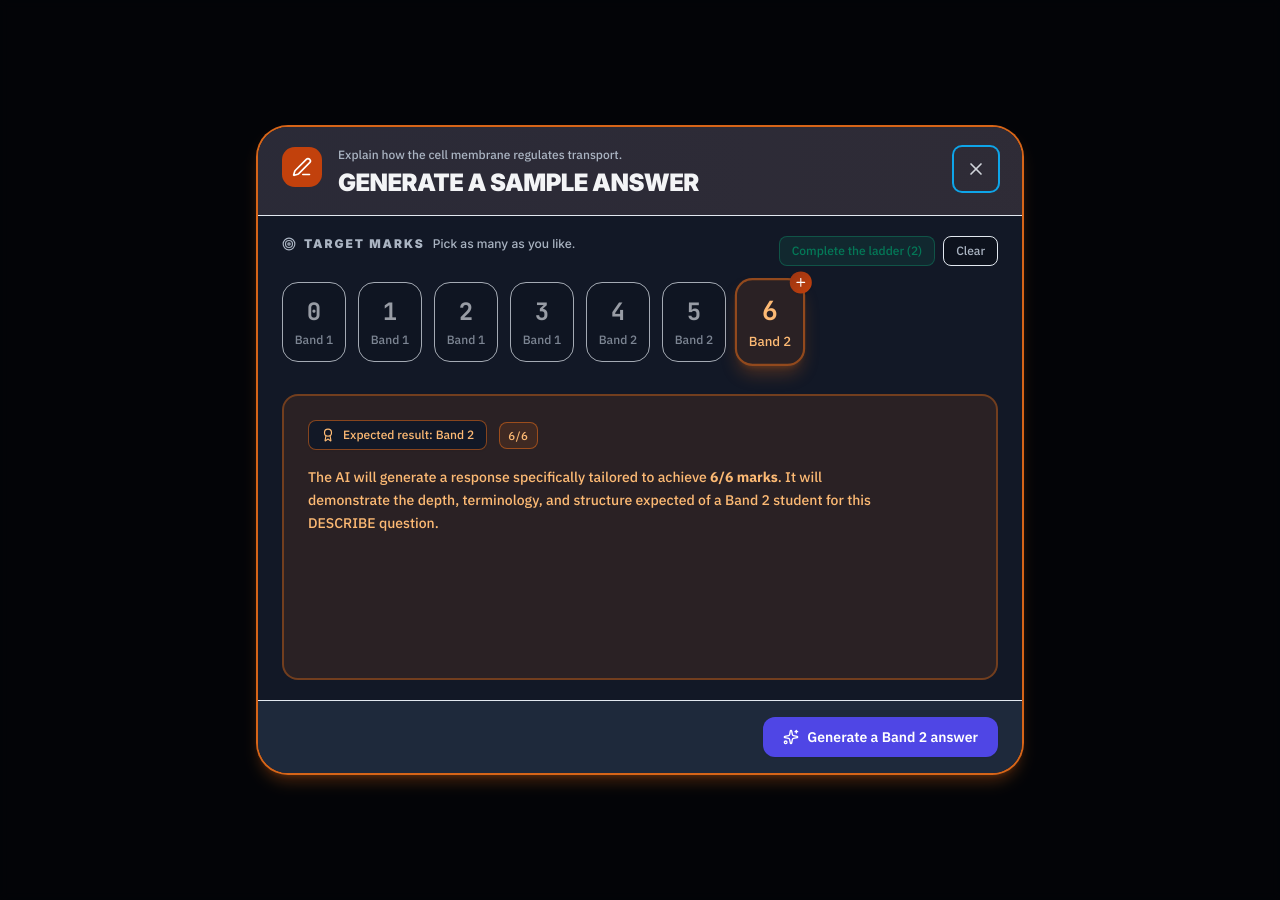
the generator copy › names the verb without quotes, in the header and in the explanation
Step 1. Click the button with aria-label "2 of 6 marks" → (466, 322), box [434, 282, 498, 362]
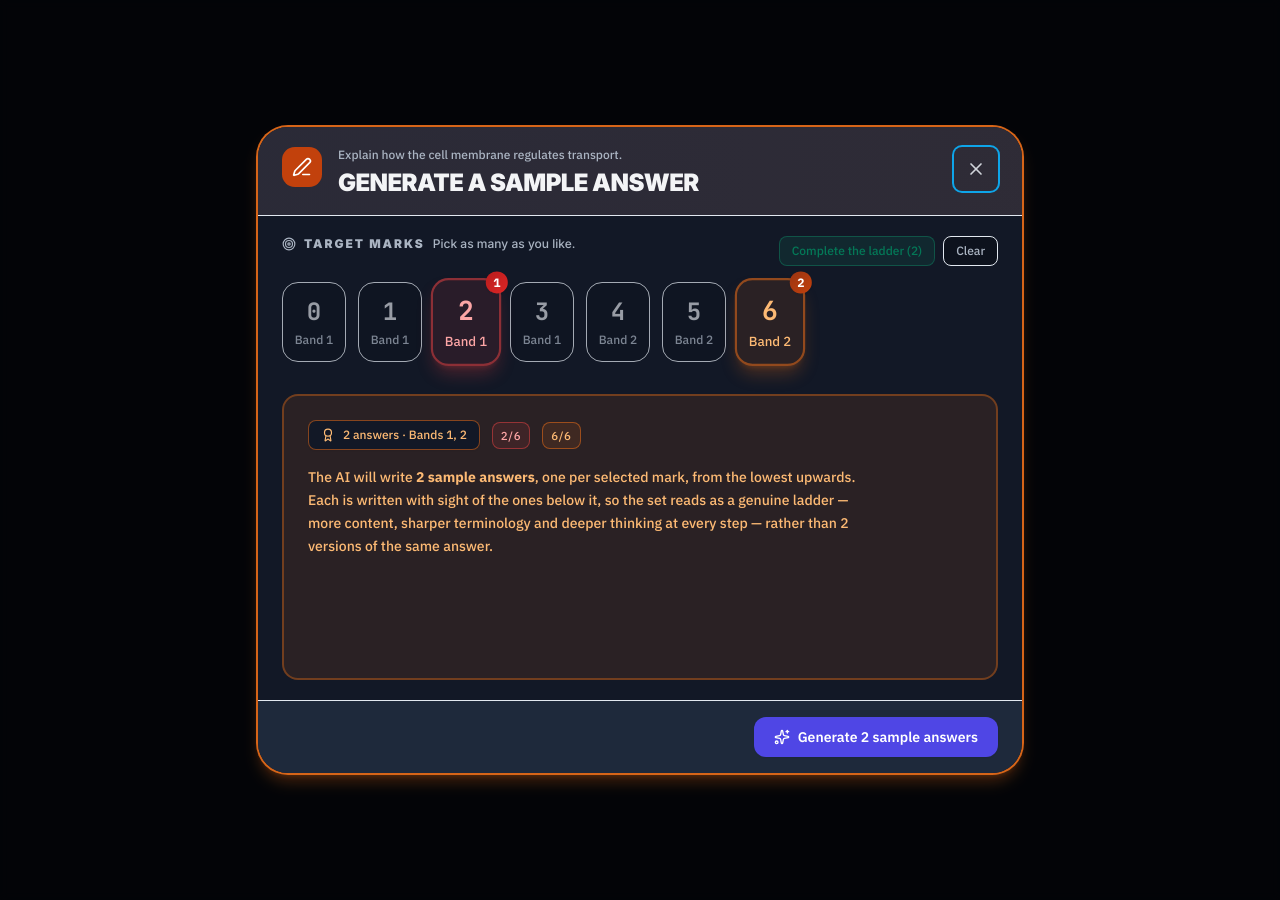
Step 2. Click the button with aria-label "6 of 6 marks" → (770, 322), box [735, 278, 805, 366]
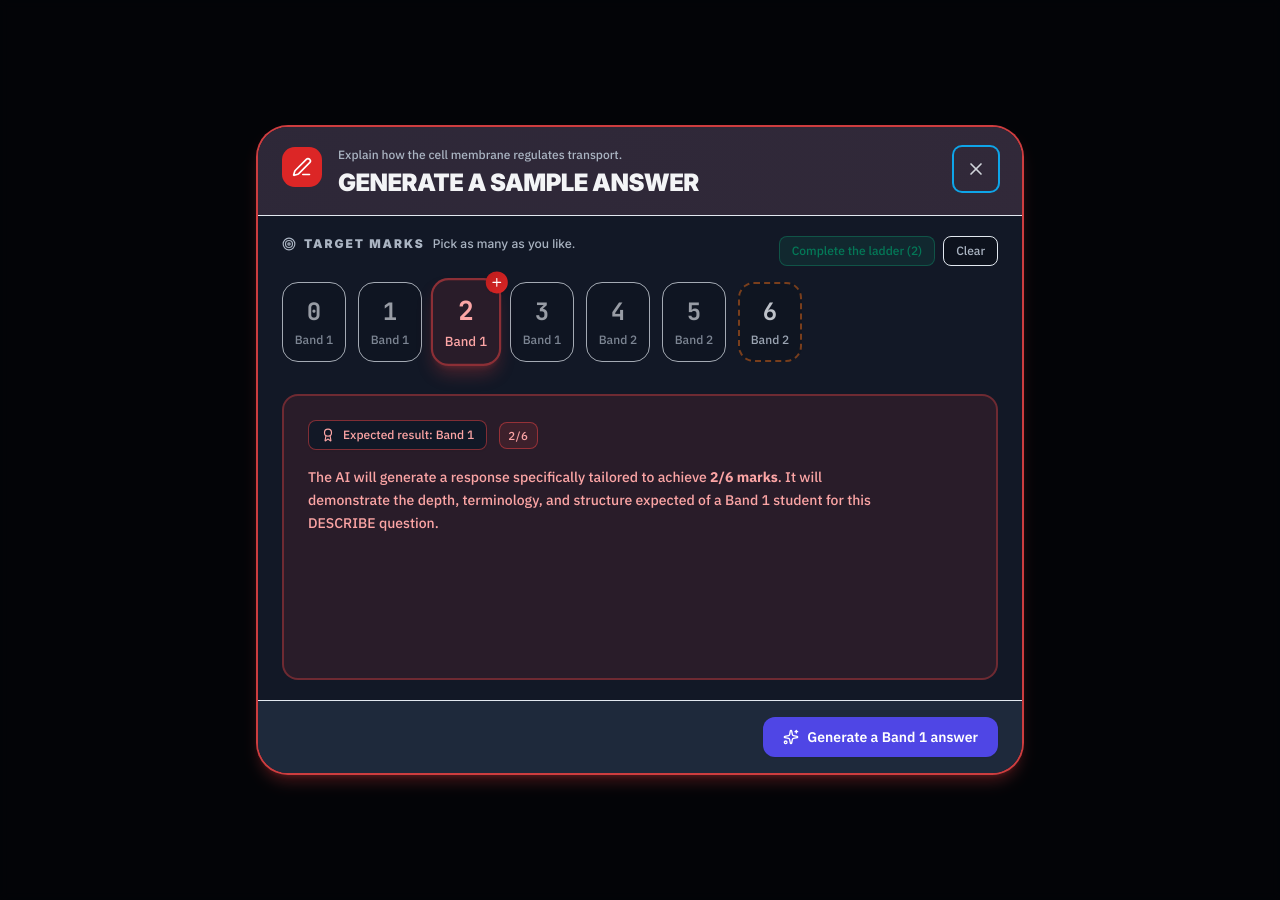
Expected: the dialog "Generate a sample answer" shows "this DESCRIBE question", [308, 468, 871, 532]
Expected: the dialog "Generate a sample answer" shows "DESCRIBE", [308, 468, 871, 532]
